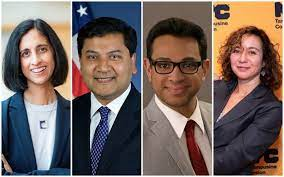men: (146, 17, 213, 112), (76, 16, 139, 102)
women: (217, 24, 281, 103), (7, 18, 66, 98)
